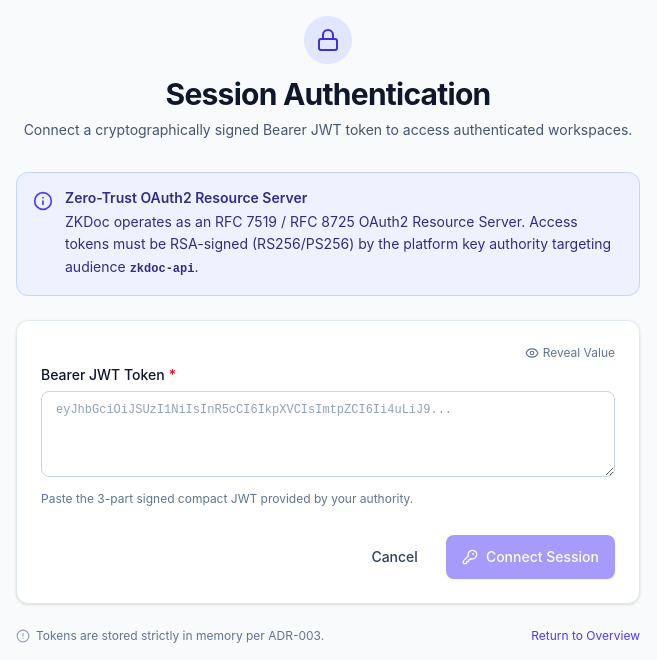
Scenario: Authentication Components & Route Protection › LoginPage Component › toggles password masking on token input
Click the button named "show raw token value": (570, 353) [525,345,615,361]
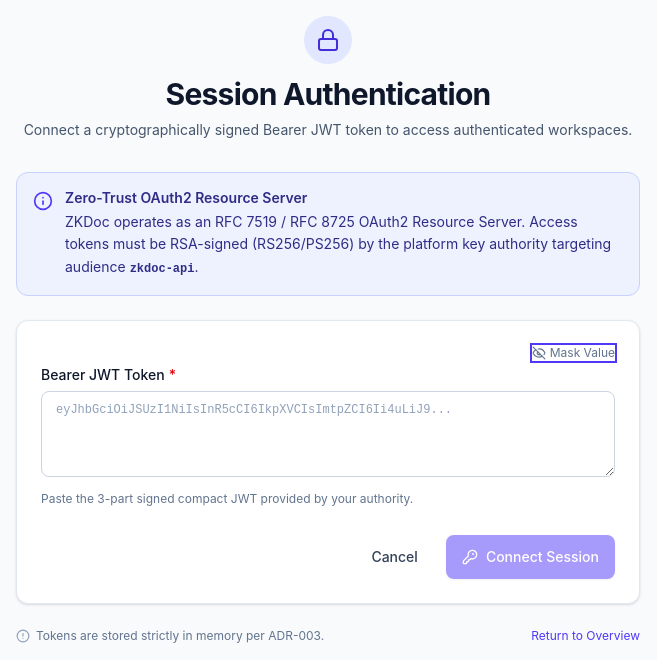
Expected: the button named "mask token value" is shown, [532,345,615,361]
